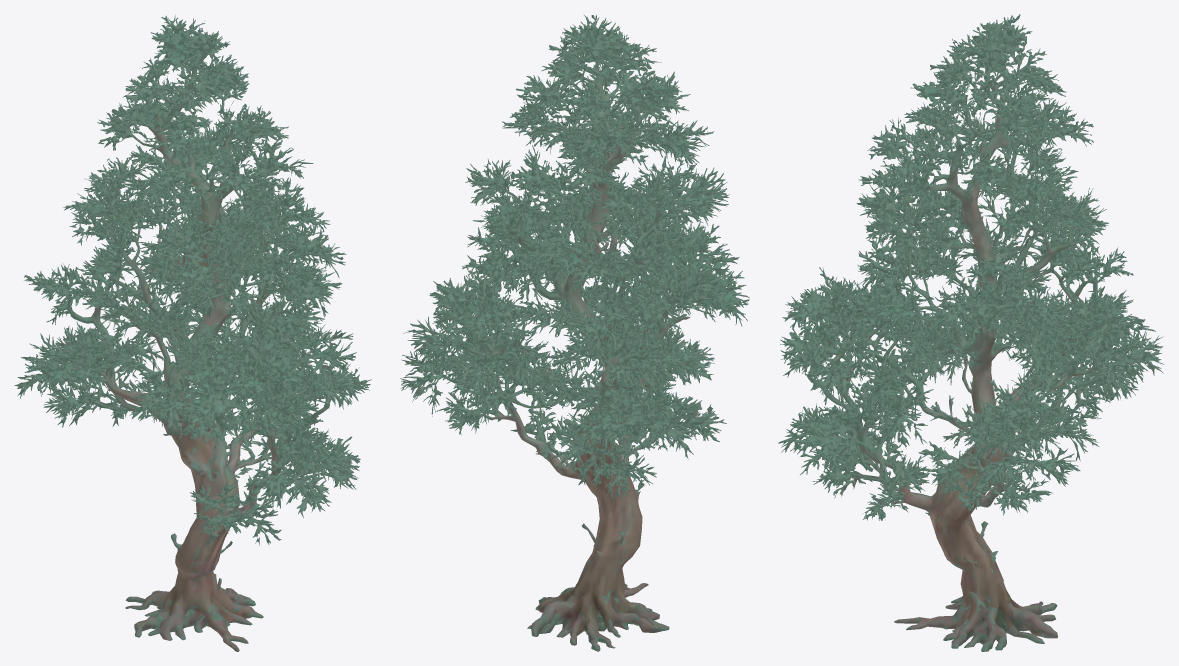
Rendered from Meshy_AI_tree_broadleaf_b_0823015514_image-to-3d-texture.glb.
3 renders of one model, left to right at view 1: azimuth 30°, elevation 25°; view 2: azimuth 150°, elevation 25°; view 3: azimuth 270°, elevation 25°, orthographic.
Bounding box in the file's own units: 1.04 × 1.9 × 1.1.
1 material, 1 textured.
